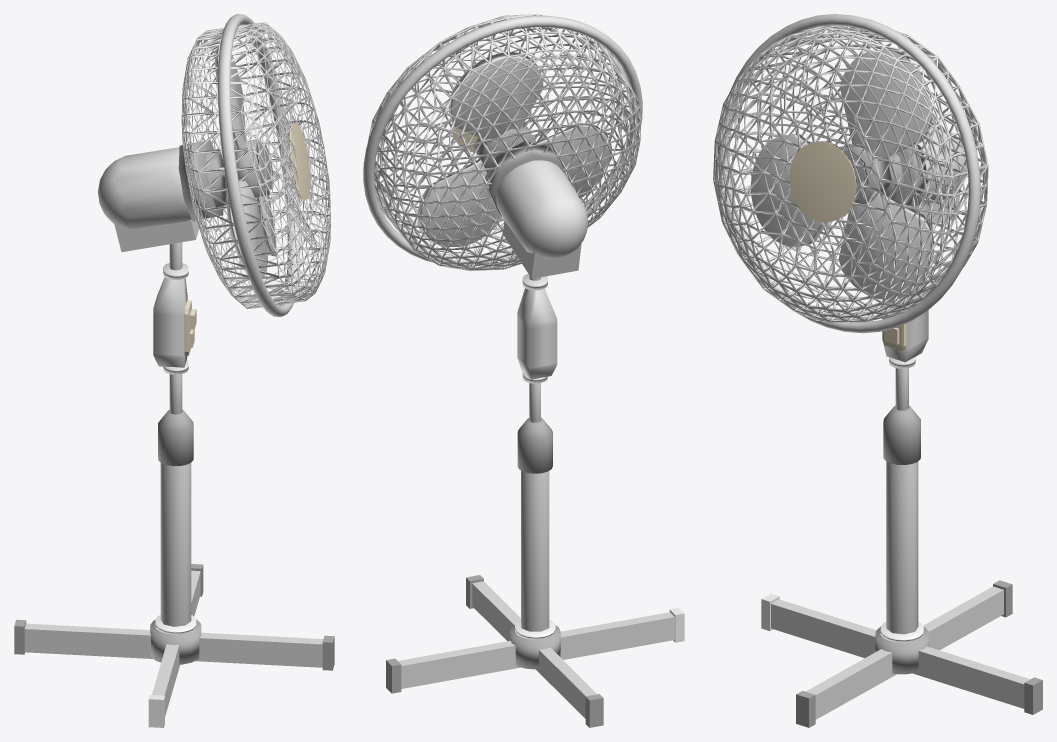
File: fan.glb
3 renders of one model, left to right at view 1: azimuth 30°, elevation 25°; view 2: azimuth 150°, elevation 25°; view 3: azimuth 270°, elevation 25°, orthographic. The views are drawn at different scales.
Parts seen in each view (by area): view 1: defense-defense_7, down-cross-1_10, defense-ring_9, back-back_0, middle-down_24, middle-middle-body_27, middle-middle-down_25, back-bottom_3, back-ring_2, down-cross-2_13, down-middle-body_16, main-wing-3_22 (+7 smaller); view 2: defense-defense_7, down-cross-2_13, back-back_0, defense-ring_9, middle-down_24, main-wing-1_21, main-wing-2_23, down-cross-1_10, middle-middle-body_27, main-wing-3_22, middle-middle-down_25, back-bottom_3 (+5 smaller); view 3: defense-defense_7, defense-ring_9, down-cross-2_13, middle-down_24, down-cross-1_10, main-wing-1_21, main-wing-2_23, defense-circle_8, main-wing-3_22, middle-middle-down_25, down-middle-body_16, middle-middle-body_27 (+6 smaller).
Part boxes in pixels (x1,y1,x2,y2): defense-defense_7: (181, 22, 330, 308); down-cross-1_10: (24, 623, 323, 667); defense-ring_9: (218, 14, 300, 316); back-back_0: (98, 147, 196, 228); middle-down_24: (160, 463, 191, 626); middle-middle-body_27: (153, 277, 187, 367); middle-middle-down_25: (158, 410, 193, 466); back-bottom_3: (113, 219, 200, 251); back-ring_2: (178, 140, 223, 220); down-cross-2_13: (152, 570, 200, 716); down-middle-body_16: (150, 619, 201, 664); main-wing-3_22: (226, 181, 267, 276); defense-defense_7: (367, 14, 641, 271); down-cross-2_13: (398, 612, 674, 688); back-back_0: (496, 160, 588, 259); defense-ring_9: (363, 16, 642, 266); middle-down_24: (521, 470, 549, 631); main-wing-1_21: (449, 52, 543, 142); main-wing-2_23: (417, 158, 502, 246); down-cross-1_10: (472, 581, 596, 718); middle-middle-body_27: (517, 288, 557, 379); main-wing-3_22: (536, 123, 611, 198); middle-middle-down_25: (517, 418, 552, 473); back-bottom_3: (503, 220, 581, 278); defense-defense_7: (713, 25, 988, 322); defense-ring_9: (717, 14, 980, 333); down-cross-2_13: (771, 599, 1029, 708); middle-down_24: (886, 461, 918, 634); down-cross-1_10: (806, 586, 1003, 719); main-wing-1_21: (840, 49, 932, 161); main-wing-2_23: (838, 191, 934, 299); defense-circle_8: (789, 141, 857, 222); main-wing-3_22: (751, 134, 827, 246); middle-middle-down_25: (883, 405, 920, 464); down-middle-body_16: (875, 626, 928, 674); middle-middle-body_27: (883, 283, 928, 362).
Size of the model in its own units: 1.2 by 2.72 by 1.22.
